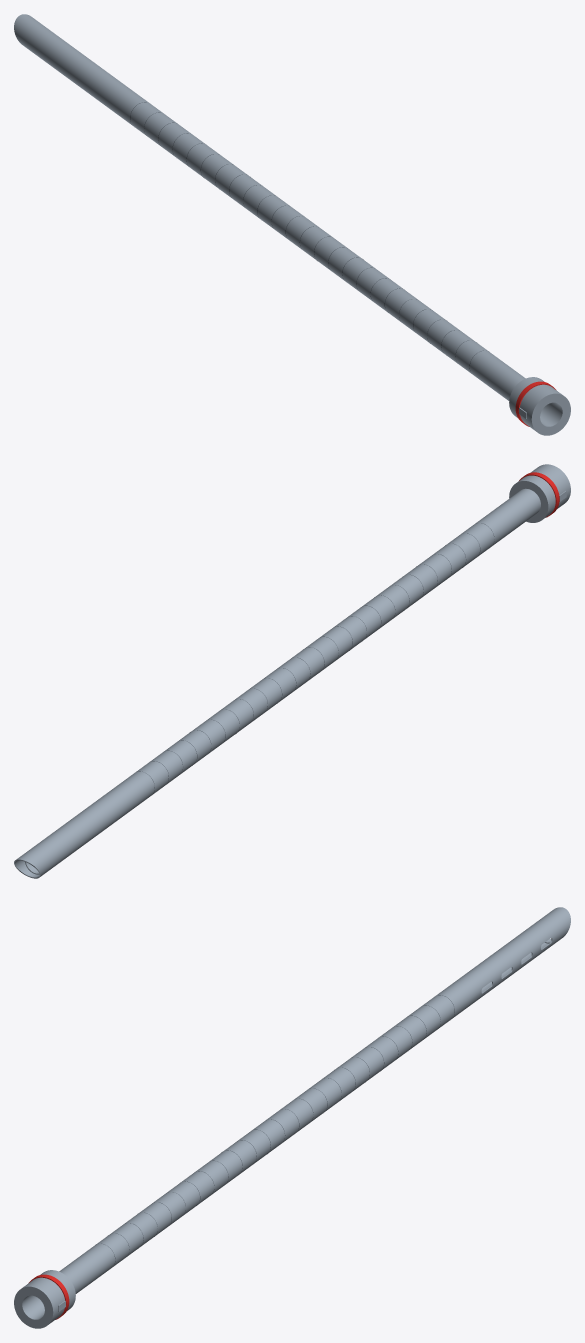
Rendered from bt2103-3-bronchial-tube-od10p00-id9p20mm-23286bfa8254.glb.
The picture shows the model from 3 angles, top to bottom: view 1: azimuth 30°, elevation 25°; view 2: azimuth 150°, elevation 25°; view 3: azimuth 330°, elevation 25°; orthographic projection.
Visible parts, largest first — view 1: BT2103_3_Hollow_Beveled_Tube, BT2103_3_Quarter_Turn_Connector; view 2: BT2103_3_Hollow_Beveled_Tube, BT2103_3_Quarter_Turn_Connector; view 3: BT2103_3_Hollow_Beveled_Tube, BT2103_3_Quarter_Turn_Connector.
Part boxes in pixels (<box>): BT2103_3_Hollow_Beveled_Tube: <box>14,14,525,400</box>; BT2103_3_Quarter_Turn_Connector: <box>509,377,570,435</box>; BT2103_3_Hollow_Beveled_Tube: <box>14,488,540,878</box>; BT2103_3_Quarter_Turn_Connector: <box>509,464,570,522</box>; BT2103_3_Hollow_Beveled_Tube: <box>59,907,570,1293</box>; BT2103_3_Quarter_Turn_Connector: <box>14,1270,75,1328</box>.
Size of the model in its own units: 0.0167 by 0.0167 by 0.374.
